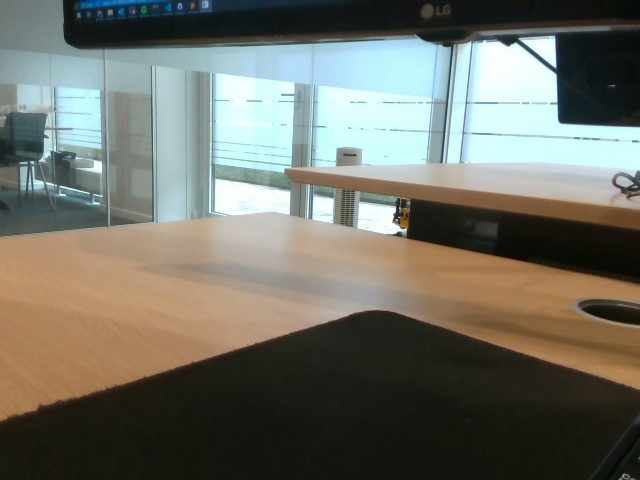alfa: (182, 265, 202, 287)
